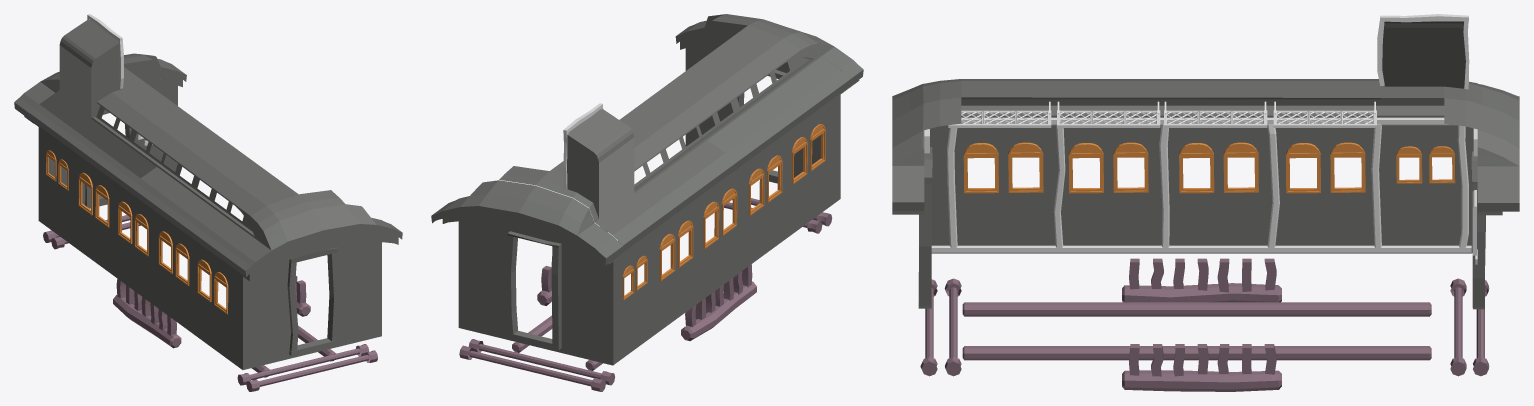
The model's file is trainwells.fbx.
3 renders of one model, left to right at view 1: azimuth 30°, elevation 25°; view 2: azimuth 150°, elevation 25°; view 3: azimuth 270°, elevation 25°, orthographic. The views are drawn at different scales.
Visible parts, largest first — view 1: leftwall, leftdoor, Cube.014, rightdoor, Cube.018; view 2: leftwall, rightdoor, Cube.014, leftdoor, Cube.018; view 3: leftwall, Cube.014, Cube.013, rightdoor, Plane.002, leftdoor, Cube.018, Cube.
Part boxes in pixels (x1,y1,x2,y2): leftwall: [29, 20, 345, 369]; leftdoor: [234, 204, 402, 369]; Cube.014: [43, 215, 377, 391]; rightdoor: [14, 53, 186, 208]; Cube.018: [87, 14, 123, 88]; leftwall: [499, 14, 850, 364]; rightdoor: [431, 180, 623, 365]; Cube.014: [459, 198, 832, 391]; leftdoor: [675, 14, 863, 183]; Cube.018: [563, 103, 603, 189]; leftwall: [924, 21, 1477, 253]; Cube.014: [920, 258, 1489, 391]; Cube.013: [931, 117, 1471, 253]; rightdoor: [1471, 84, 1519, 309]; Plane.002: [948, 101, 1376, 127]; leftdoor: [892, 83, 932, 308]; Cube.018: [1377, 14, 1469, 89]; Cube: [924, 128, 1477, 264].
Bounding box in the file's own units: 433 × 615 × 1105.
